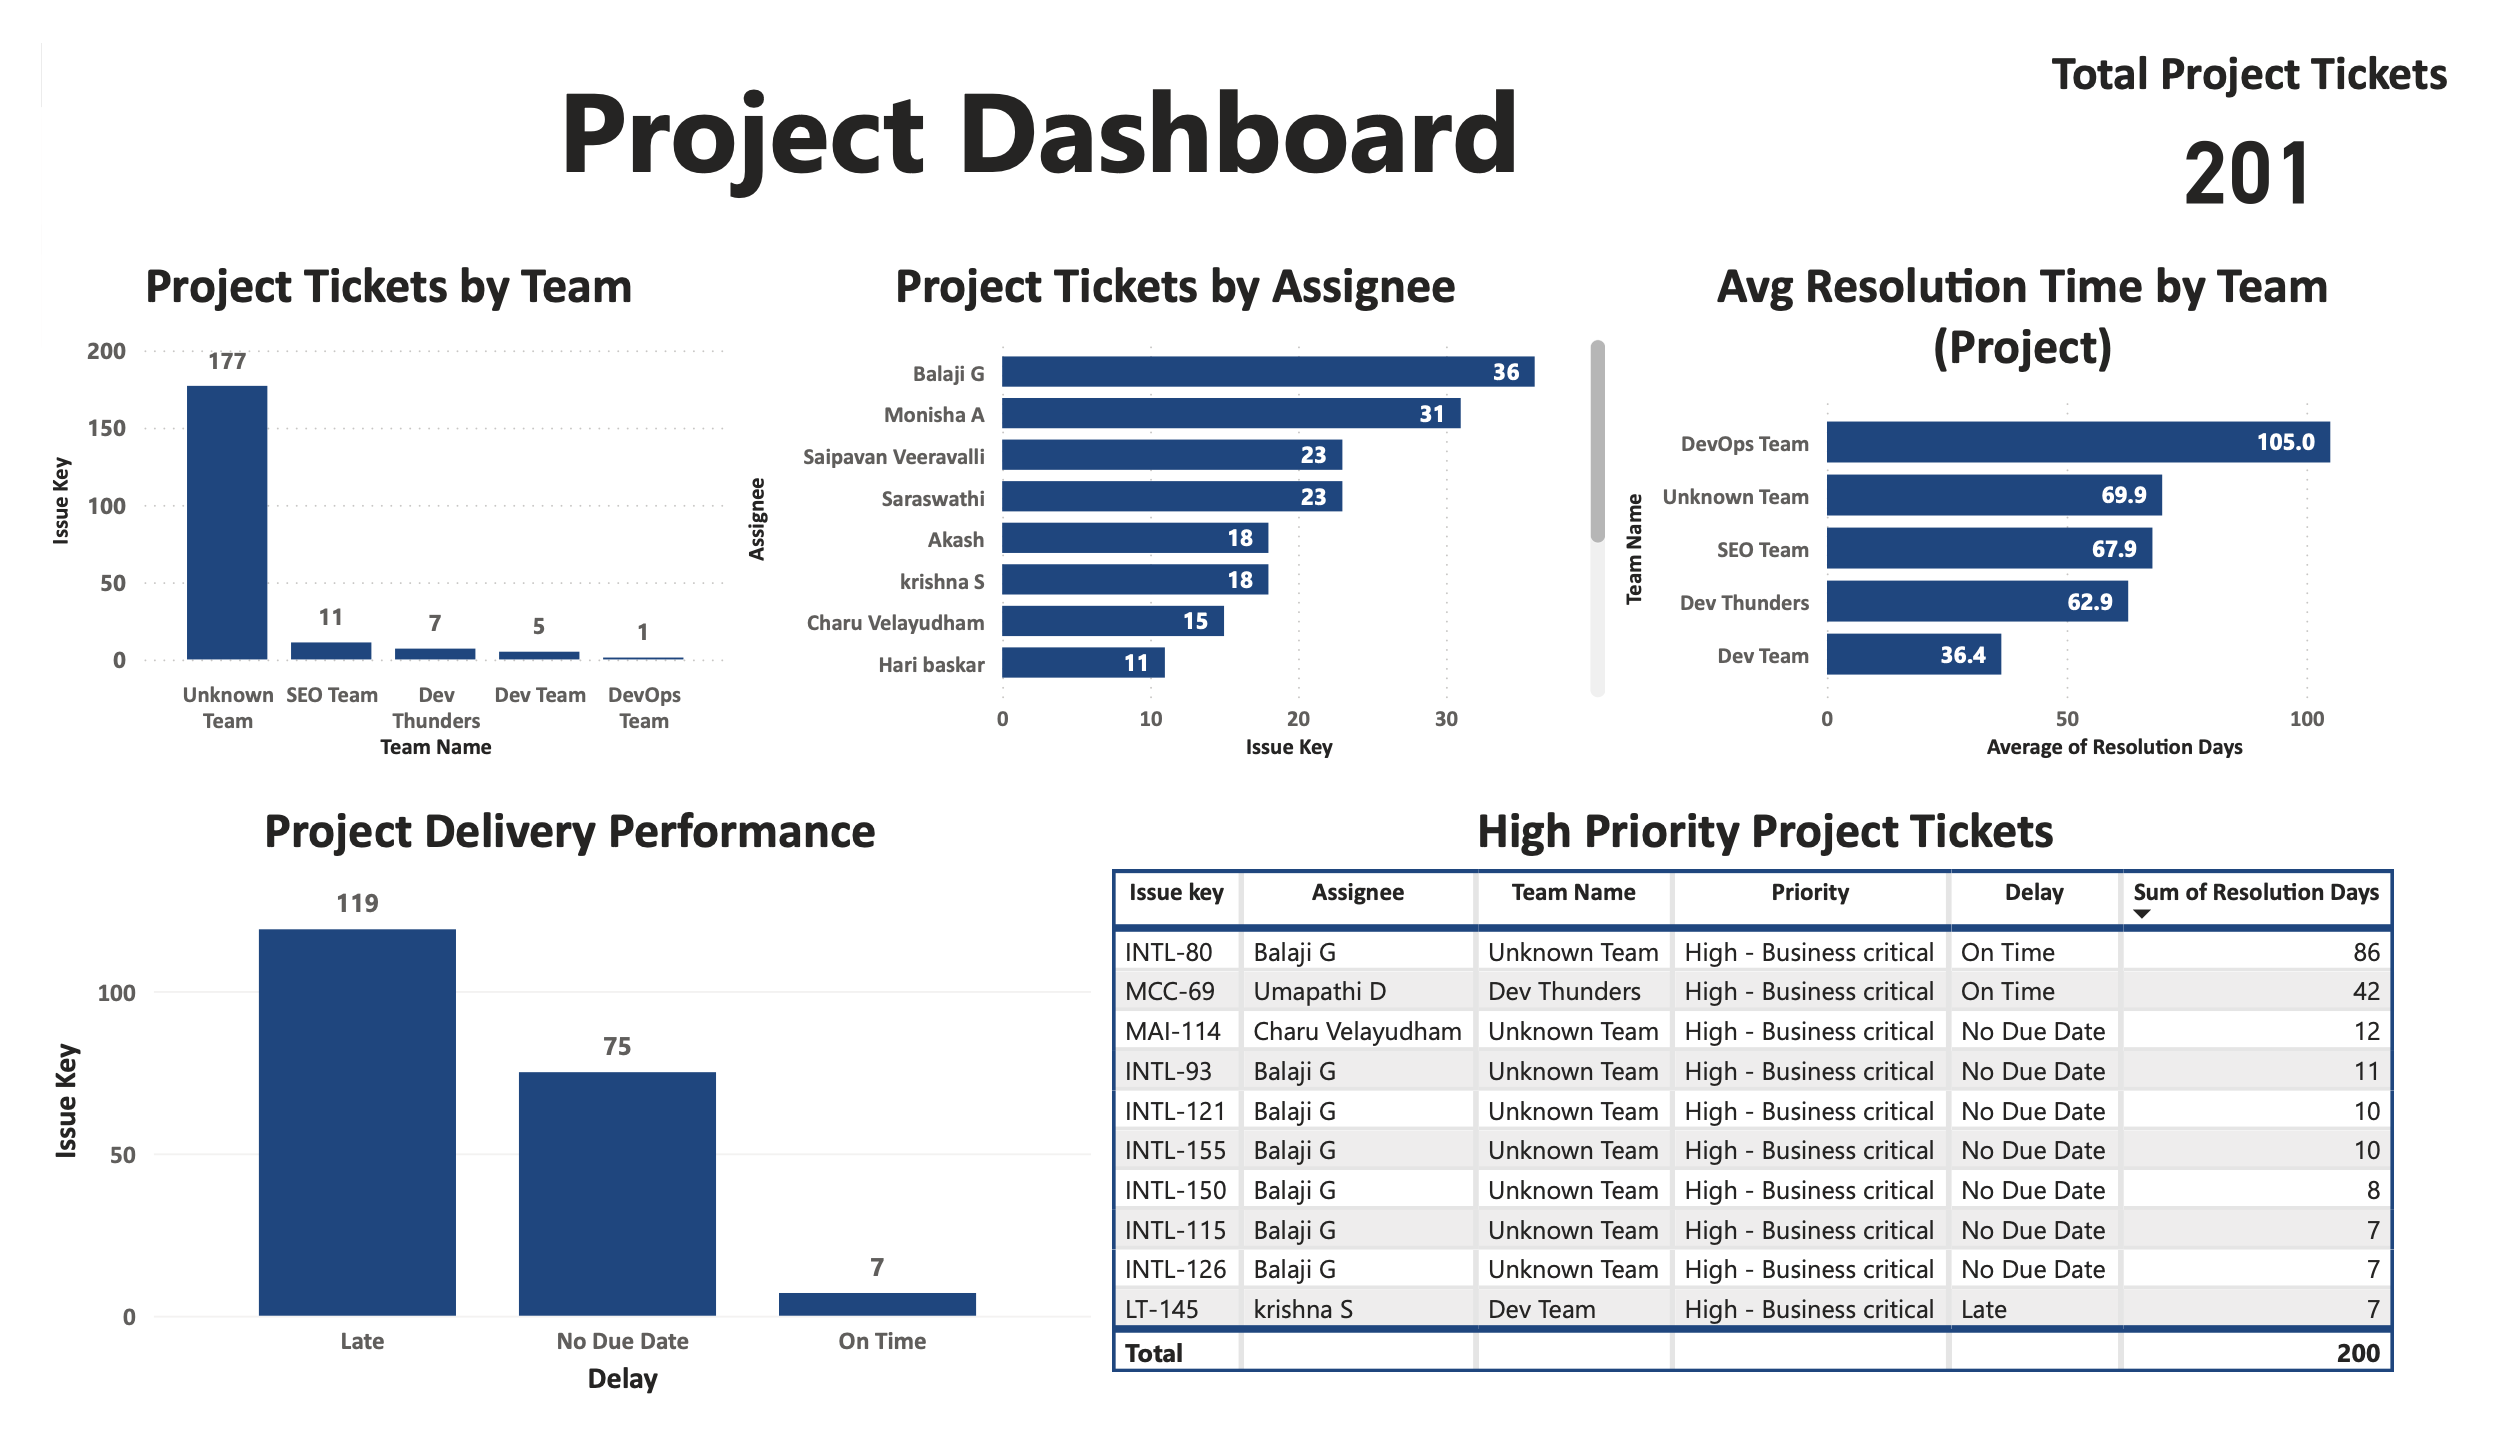

The page's visual inventory and layout, read from the dashboard file:
{"tool":"powerbi","page":{"name":"Project Dashboard","canvas":[1280,720],"ordinal":2},"visuals":[{"type":"card","title":"Total Project Tickets","fields":{"Values":["Count(Jira Data.Issue key)"]},"box":[1056,0,224,96],"z":0},{"type":"clusteredColumnChart","title":"Project Tickets by Team","fields":{"Category":["Jira Data.Team Name"],"Y":["Count(Jira Data.Issue key)"]},"box":[0,112,368,272],"z":1000},{"type":"clusteredBarChart","title":"Project Tickets by Assignee","fields":{"Category":["Jira Data.Assignee"],"Y":["Count(Jira Data.Issue key)"]},"box":[368,112,464,272],"z":2000},{"type":"clusteredColumnChart","title":"Project Delivery Performance","fields":{"Category":["Jira Data.Delay"],"Y":["Count(Jira Data.Issue key)"]},"box":[0,400,560,320],"z":3000},{"type":"clusteredBarChart","title":"Avg Resolution Time by Team (Project)","fields":{"Category":["Jira Data.Team Name"],"Y":["Avg(Jira Data.Resolution Days)"]},"box":[832,112,432,272],"z":4000},{"type":"tableEx","title":"High Priority Project Tickets","fields":{"Values":["Jira Data.Issue key","Jira Data.Assignee","Jira Data.Team Name","Jira Data.Priority","Jira Data.Delay","Sum(Jira Data.Resolution Days)"]},"box":[560,400,704,320],"z":5000},{"type":"textbox","box":[0,0,1056,96],"z":6000}]}

Visuals, with their boxes in screenshot pixels (x1, y1, x2, y2), scaled from the page's 1280x720 canvas onto the 2502x1438 screenshot:
"Total Project Tickets" card: (x1=2064, y1=0, x2=2501, y2=192)
"Project Tickets by Team" clusteredColumnChart: (x1=0, y1=224, x2=719, y2=767)
"Project Tickets by Assignee" clusteredBarChart: (x1=719, y1=224, x2=1626, y2=767)
"Project Delivery Performance" clusteredColumnChart: (x1=0, y1=799, x2=1095, y2=1437)
"Avg Resolution Time by Team (Project)" clusteredBarChart: (x1=1626, y1=224, x2=2471, y2=767)
"High Priority Project Tickets" tableEx: (x1=1095, y1=799, x2=2471, y2=1437)
textbox: (x1=0, y1=0, x2=2064, y2=192)
